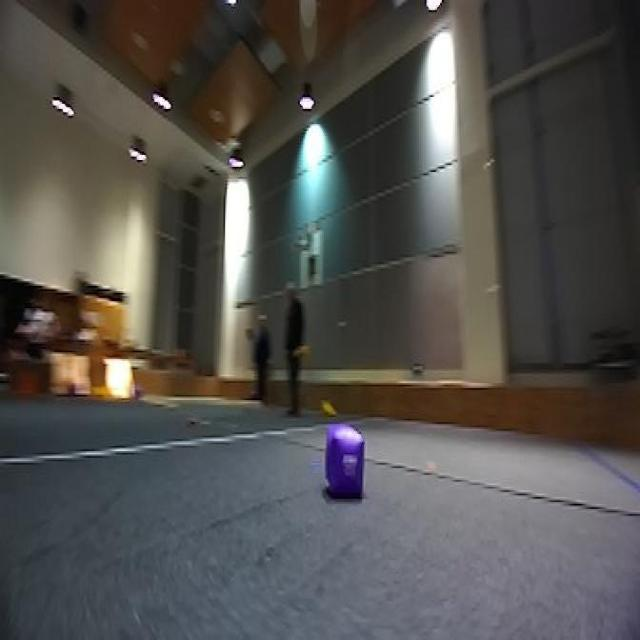frc_cone: (319, 393, 336, 417), (292, 340, 310, 361), (90, 383, 112, 400)
frc_cube: (323, 426, 368, 500), (132, 385, 146, 403), (64, 379, 78, 396)
